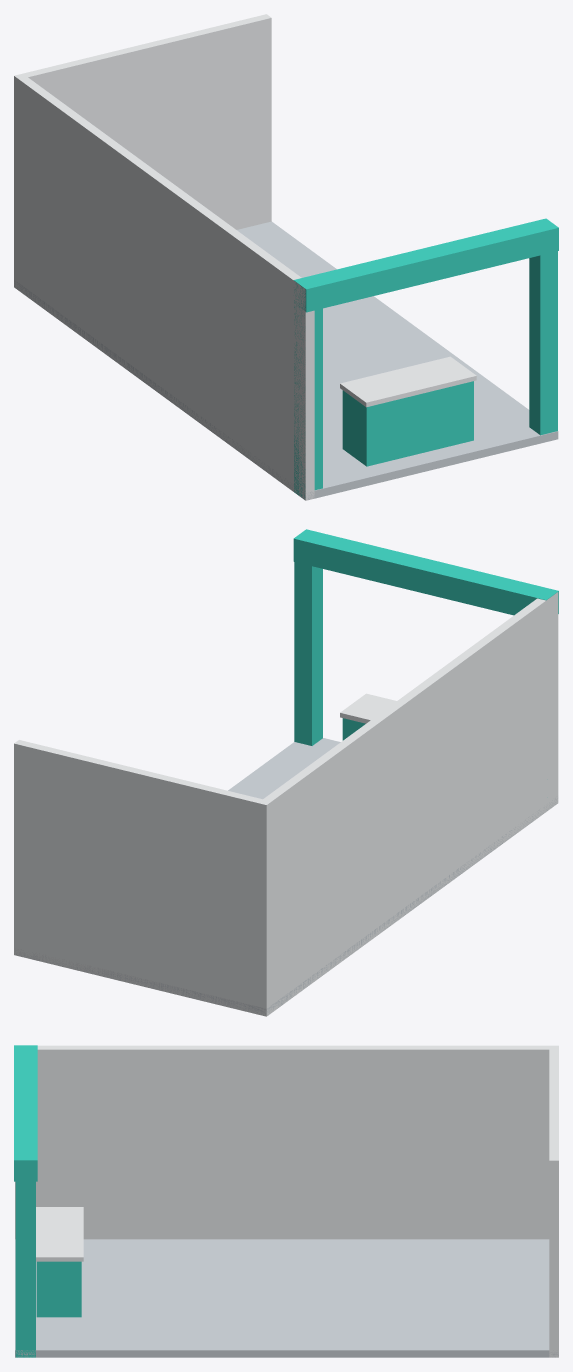
The picture shows the model from 3 angles, top to bottom: view 1: azimuth 30°, elevation 25°; view 2: azimuth 150°, elevation 25°; view 3: azimuth 270°, elevation 25°; orthographic projection. The views are drawn at different scales.
Parts seen in each view (by area): view 1: Exhibition Booth Concept; view 2: Exhibition Booth Concept; view 3: Exhibition Booth Concept.
Boxes of the visible parts, x1,y1,x2,y2 form: Exhibition Booth Concept: (14,14,558,500); Exhibition Booth Concept: (14,529,558,1016); Exhibition Booth Concept: (14,1045,558,1357).
Bounding box in the file's own units: 4 × 3.2 × 8.01.
